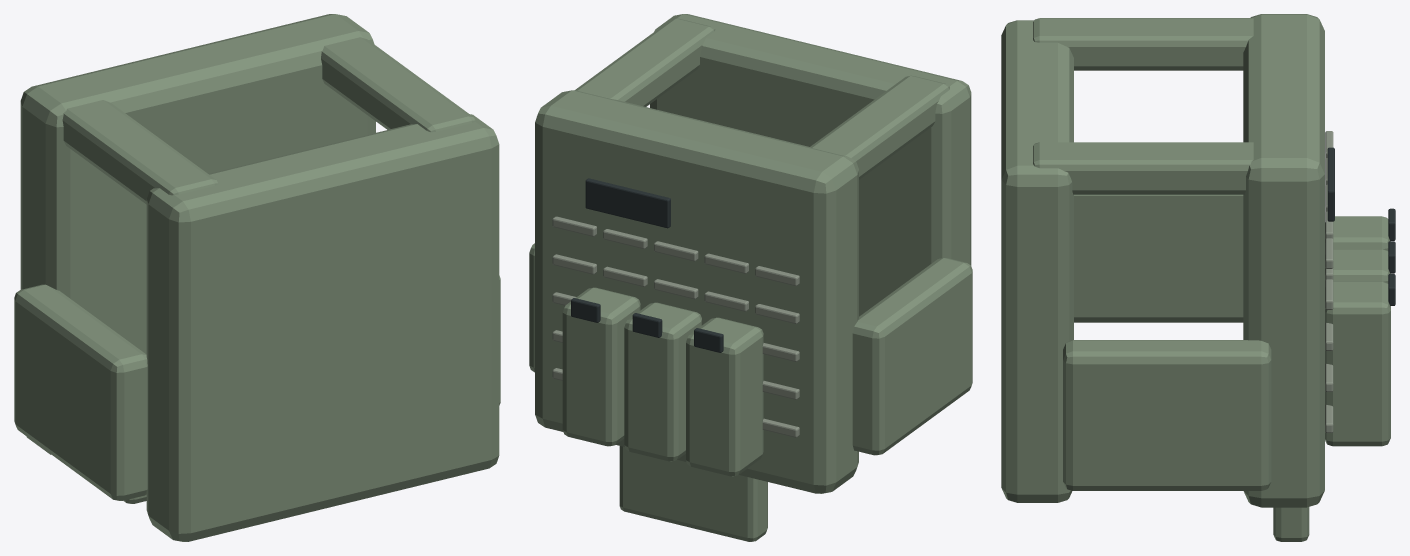
File: body_armor_fiber_4a.glb
3 views of the same model, side by side, from view 1: azimuth 30°, elevation 25°; view 2: azimuth 150°, elevation 25°; view 3: azimuth 270°, elevation 25° (orthographic). The views are drawn at different scales.
Visible parts, largest first — view 1: body_armor_fiber_4a; view 2: body_armor_fiber_4a; view 3: body_armor_fiber_4a.
Part boxes in pixels (x1=…): body_armor_fiber_4a: x1=14, y1=14, x2=500, y2=541; body_armor_fiber_4a: x1=529, y1=14, x2=972, y2=541; body_armor_fiber_4a: x1=1001, y1=14, x2=1395, y2=541.
Bounding box in the file's own units: 0.49 × 0.5145 × 0.435.
